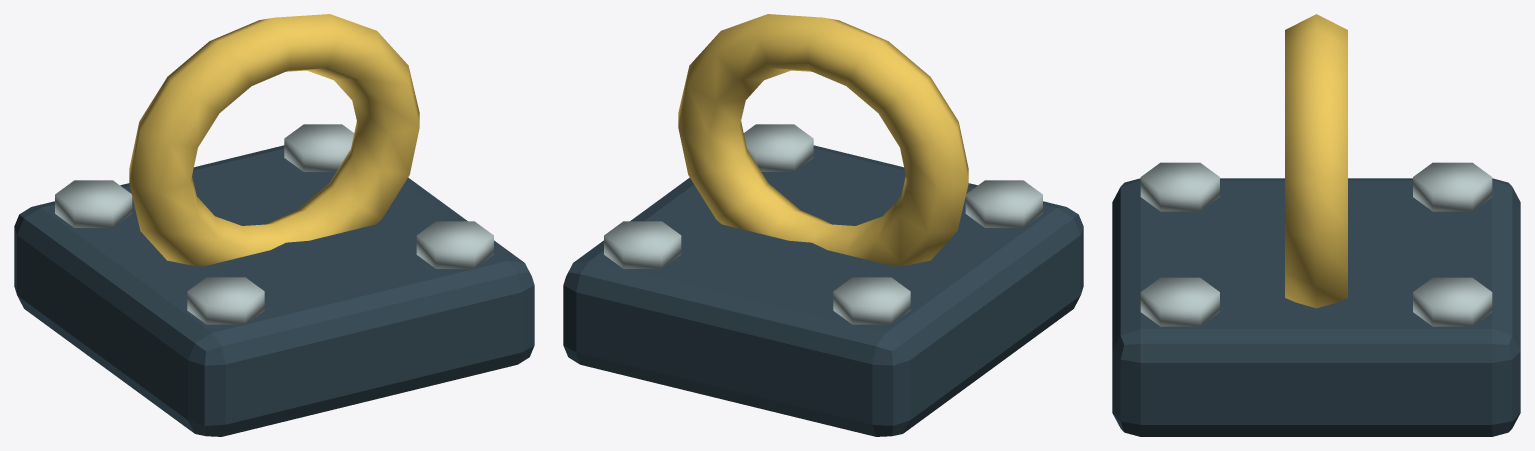
Rendered from ring.glb.
The picture shows the model from 3 angles, left to right: view 1: azimuth 30°, elevation 25°; view 2: azimuth 150°, elevation 25°; view 3: azimuth 270°, elevation 25°; orthographic projection. The views are drawn at different scales.
Parts seen in each view (by area): view 1: tyaga-rock-ring-surface; view 2: tyaga-rock-ring-surface; view 3: tyaga-rock-ring-surface.
Part boxes in pixels (bbox=[...]): tyaga-rock-ring-surface: bbox=[14, 14, 534, 436]; tyaga-rock-ring-surface: bbox=[563, 14, 1083, 436]; tyaga-rock-ring-surface: bbox=[1112, 14, 1520, 436].
Bounding box in the file's own units: 0.36 × 0.32 × 0.36.
